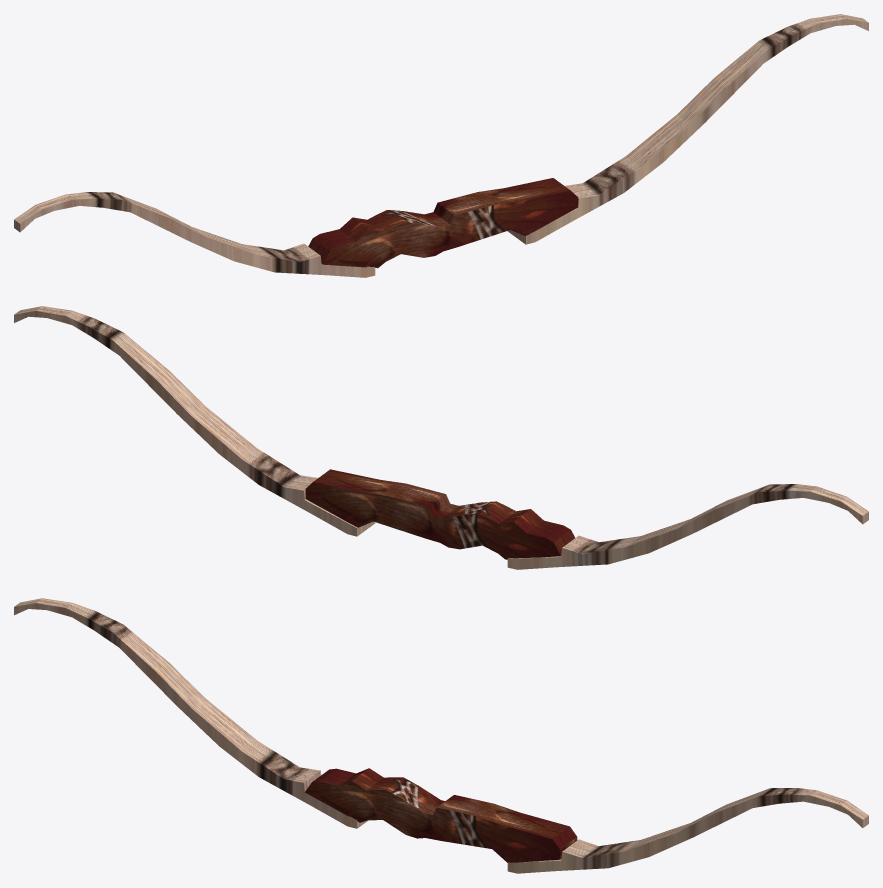
3 views of the same model, one above another, from view 1: azimuth 30°, elevation 25°; view 2: azimuth 150°, elevation 25°; view 3: azimuth 330°, elevation 25° (orthographic).
Parts seen in each view (by area): view 1: it10300; view 2: it10300; view 3: it10300.
Boxes of the visible parts, <box> form: it10300: <box>14,14,868,277</box>; it10300: <box>14,306,868,569</box>; it10300: <box>14,598,868,873</box>.
Bounding box in the file's own units: 5.39 × 0.9111 × 0.2009.
2 materials, 2 textured.
